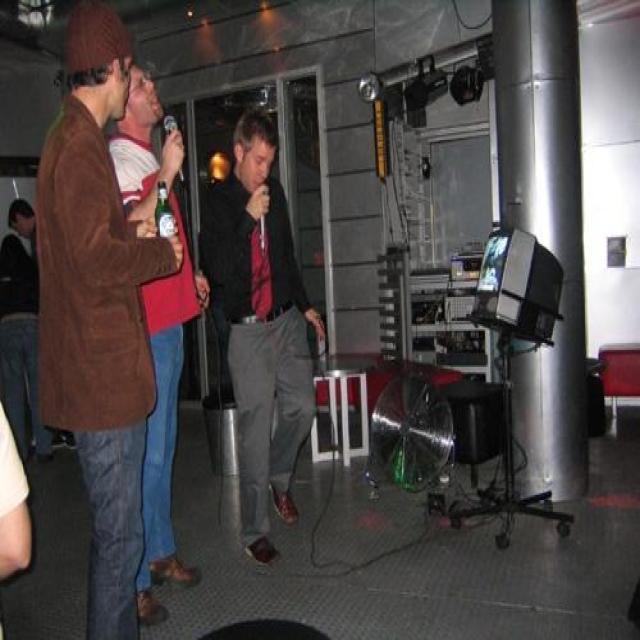No_Gloves: (156, 128, 196, 188), (243, 181, 271, 230), (301, 307, 326, 354), (166, 232, 186, 280), (192, 274, 214, 316), (132, 218, 154, 253)
